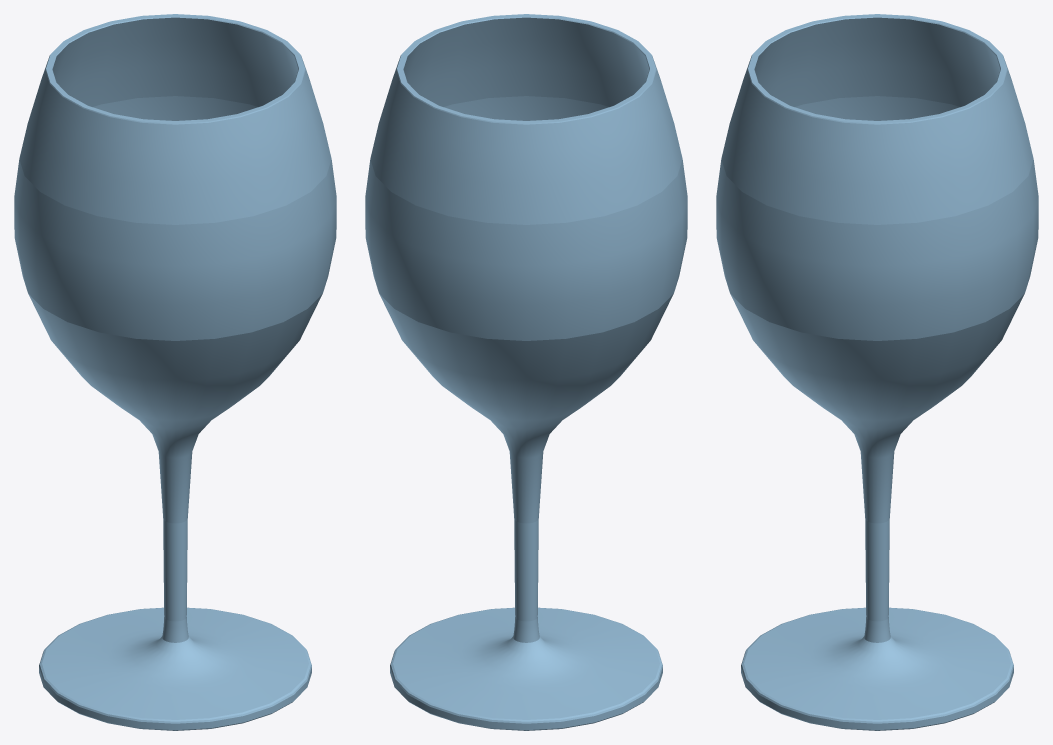
Rendered from win_02_glass.FBX.
3 views of the same model, side by side, from view 1: azimuth 30°, elevation 25°; view 2: azimuth 150°, elevation 25°; view 3: azimuth 270°, elevation 25° (orthographic).
Visible parts, largest first — view 1: win_02_glass; view 2: win_02_glass; view 3: win_02_glass.
Part boxes in pixels (bbox=[...]): win_02_glass: bbox=[14, 14, 336, 730]; win_02_glass: bbox=[365, 14, 687, 730]; win_02_glass: bbox=[716, 14, 1038, 730].
Bounding box in the file's own units: 82.5 × 171 × 82.5.
